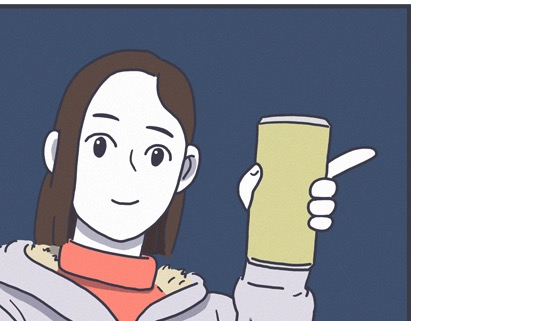can: (243, 112, 332, 275)
